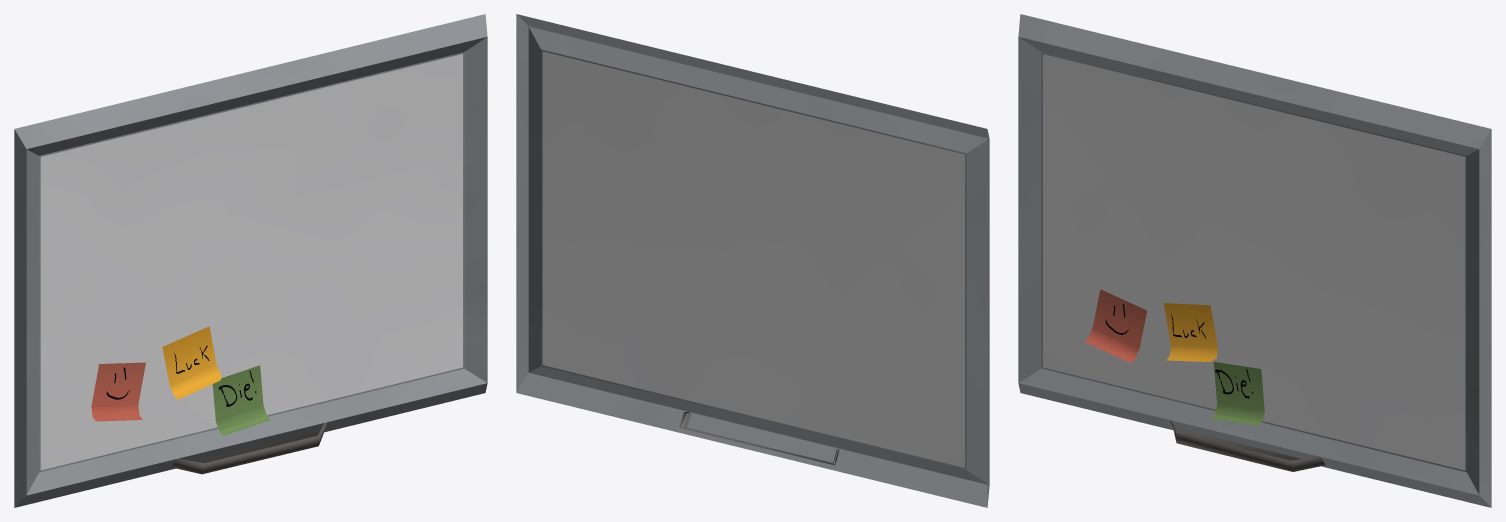
File: pizarra.fbx
3 renders of one model, left to right at view 1: azimuth 30°, elevation 25°; view 2: azimuth 150°, elevation 25°; view 3: azimuth 330°, elevation 25°, orthographic.
Visible parts, largest first — view 1: Pizarra; view 2: Pizarra; view 3: Pizarra.
Part boxes in pixels (x1,y1,x2,y2): Pizarra: (14,14,487,507); Pizarra: (516,14,989,507); Pizarra: (1018,14,1491,507).
Bounding box in the file's own units: 113 × 87.06 × 6.97.
